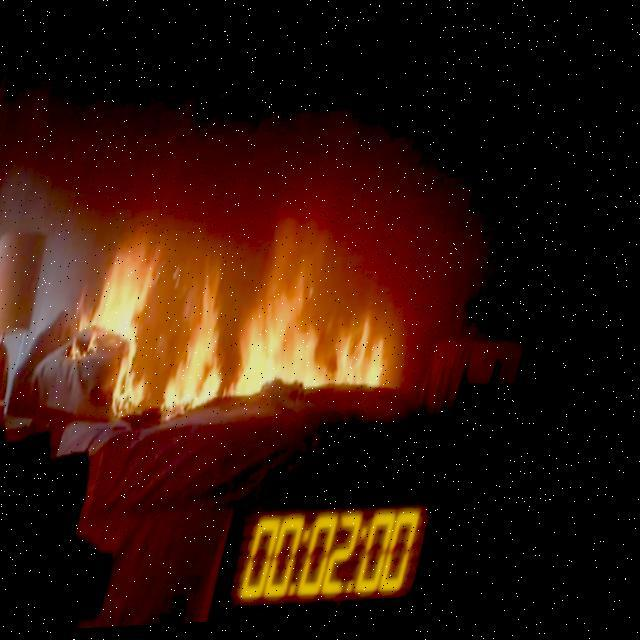Fire: (45, 169, 452, 466), (0, 187, 76, 456)
